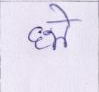e_matra: (49, 4, 71, 19)
